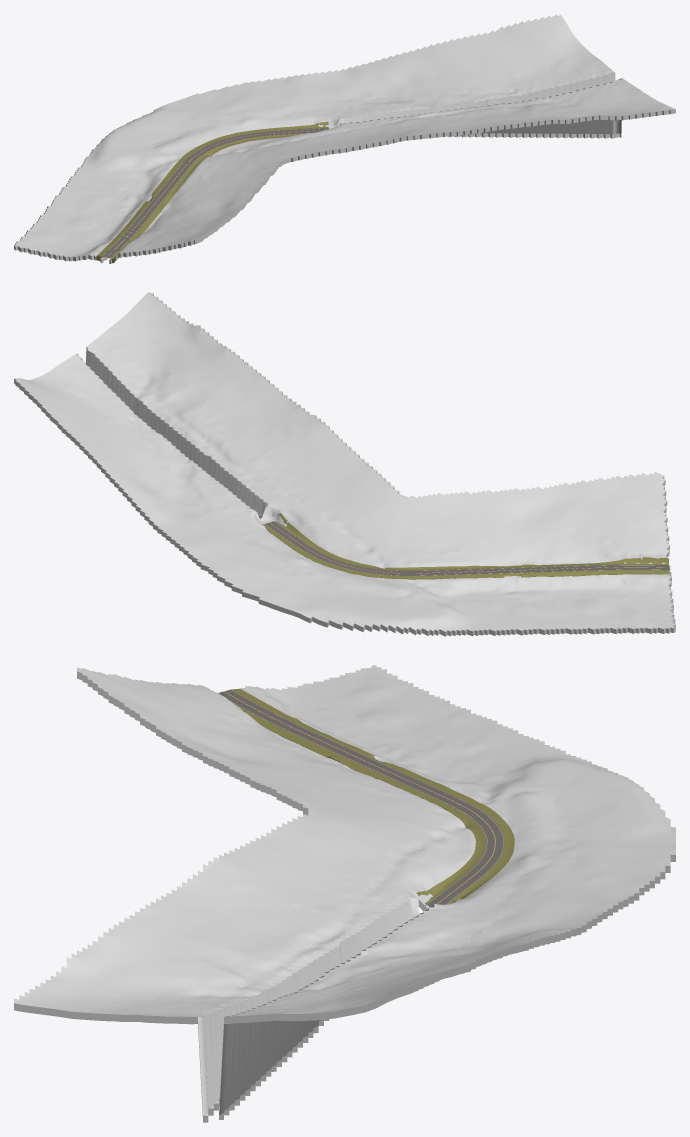
The model's file is conz_52.glb.
3 views of the same model, one above another, from view 1: azimuth 30°, elevation 25°; view 2: azimuth 150°, elevation 25°; view 3: azimuth 270°, elevation 25° (orthographic). The views are drawn at different scales.
Visible parts, largest first — view 1: terrain52, road52, verge52L, verge52R; view 2: terrain52, road52, verge52L, verge52R; view 3: terrain52, road52, verge52R, verge52L.
Part boxes in pixels (x1,y1,x2,y2): terrain52: (14, 14, 675, 263); road52: (101, 127, 328, 258); verge52L: (96, 121, 328, 260); verge52R: (110, 129, 328, 263); terrain52: (14, 292, 675, 636); road52: (265, 521, 669, 575); verge52L: (259, 522, 669, 579); verge52R: (275, 513, 668, 570); terrain52: (14, 665, 675, 1122); road52: (218, 689, 504, 906); verge52R: (234, 704, 486, 906); verge52L: (232, 688, 514, 904).
Bounding box in the file's own units: 424 × 66.7 × 252.
